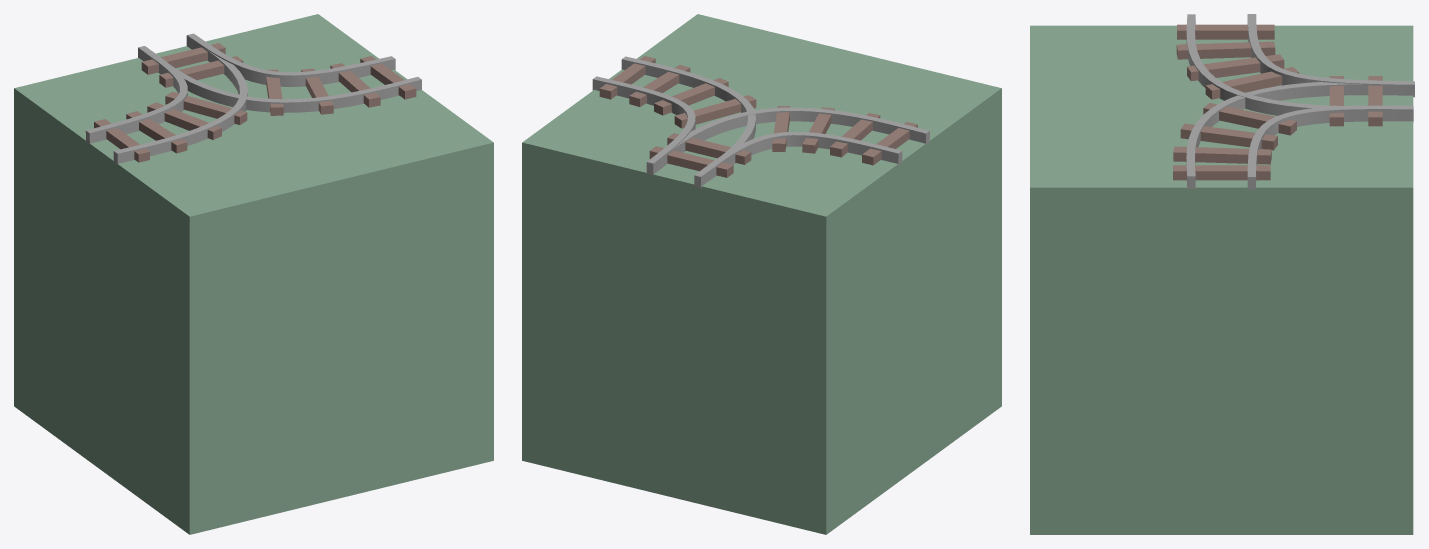
File: wissel_lr_export.fbx
The picture shows the model from 3 angles, left to right: view 1: azimuth 30°, elevation 25°; view 2: azimuth 150°, elevation 25°; view 3: azimuth 270°, elevation 25°; orthographic projection. The views are drawn at different scales.
Visible parts, largest first — view 1: hout18; view 2: hout18; view 3: hout18.
Boxes of the visible parts, bbox=[...] form: hout18: bbox=[14, 14, 493, 534]; hout18: bbox=[522, 14, 1001, 534]; hout18: bbox=[1030, 14, 1414, 534].
Size of the model in its own units: 1.01 by 1.04 by 1.
